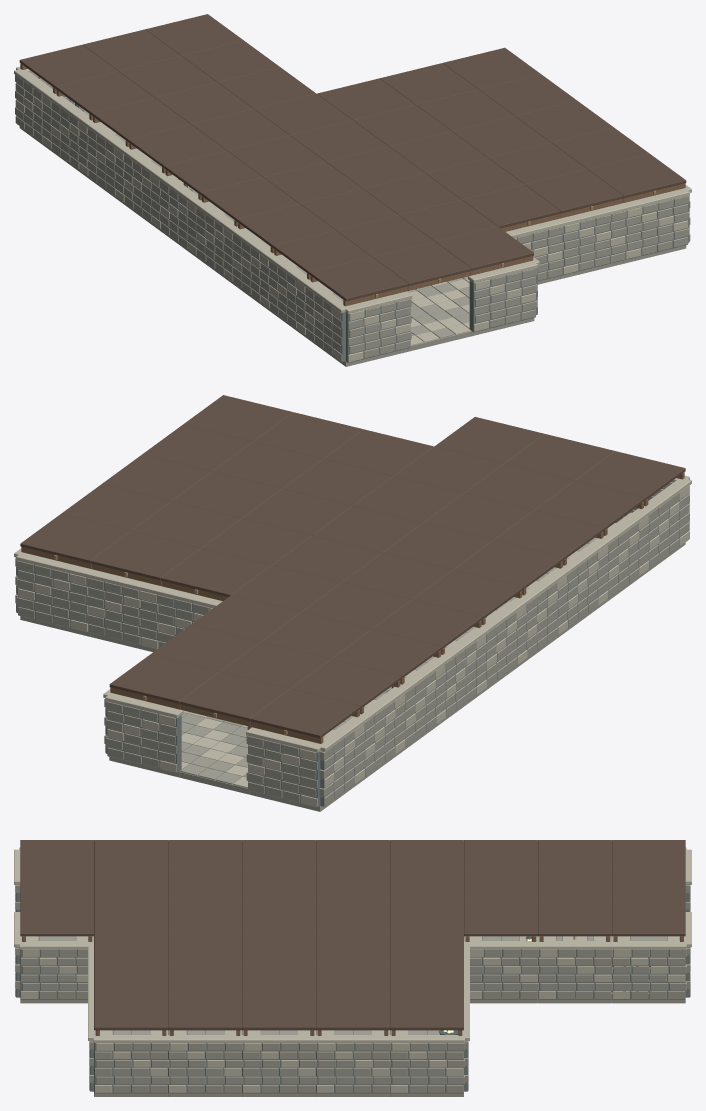
The model's file is tv_07_01_crypt_rooms.glb.
3 renders of one model, top to bottom at view 1: azimuth 30°, elevation 25°; view 2: azimuth 150°, elevation 25°; view 3: azimuth 270°, elevation 25°, orthographic. The views are drawn at different scales.
Visible parts, largest first — view 1: wall_0054, wall_0043, wall_0064, wall_0061, ceiling_0087, ceiling_0096, ceiling_0124, ceiling_0105, ceiling_0119, ceiling_0114, wall_0042, ceiling_0090 (+47 smaller); view 2: wall_0058, wall_0051, wall_0062, wall_0069, ceiling_0095, ceiling_0104, ceiling_0113, ceiling_0123, ceiling_0128, ceiling_0118, wall_0052, ceiling_0091 (+47 smaller); view 3: wall_0063, wall_0065, wall_0068, wall_0056, wall_0066, wall_0067, wall_0057, wall_0055, wall_0053, ceiling_0111, ceiling_0112, ceiling_0124 (+45 smaller).
Boxes of the visible parts, x1,y1,x2,y2 form: wall_0054: [468, 261, 537, 332]; wall_0043: [345, 291, 412, 362]; wall_0064: [622, 189, 689, 259]; wall_0061: [558, 203, 626, 274]; ceiling_0087: [309, 257, 408, 306]; ceiling_0096: [373, 242, 471, 290]; ceiling_0124: [587, 154, 686, 202]; ceiling_0105: [436, 226, 533, 275]; ceiling_0119: [525, 169, 623, 218]; ceiling_0114: [462, 184, 560, 231]; wall_0042: [304, 281, 350, 362]; ceiling_0090: [201, 177, 299, 226]; wall_0058: [105, 694, 183, 772]; wall_0051: [246, 727, 323, 807]; wall_0062: [86, 569, 162, 649]; wall_0069: [16, 552, 92, 632]; ceiling_0095: [250, 689, 360, 743]; ceiling_0104: [180, 672, 289, 726]; ceiling_0113: [109, 654, 219, 709]; ceiling_0123: [90, 531, 200, 586]; ceiling_0128: [20, 514, 130, 568]; ceiling_0118: [161, 548, 271, 601]; wall_0052: [319, 716, 366, 806]; ceiling_0091: [413, 570, 523, 624]; wall_0063: [93, 1035, 169, 1093]; wall_0065: [167, 1035, 243, 1093]; wall_0068: [390, 1035, 464, 1093]; wall_0056: [537, 941, 612, 999]; wall_0066: [242, 1035, 316, 1093]; wall_0067: [315, 1035, 390, 1093]; wall_0057: [611, 941, 686, 999]; wall_0055: [464, 941, 538, 999]; wall_0053: [19, 941, 93, 999]; ceiling_0111: [464, 902, 537, 941]; ceiling_0112: [538, 902, 611, 941]; ceiling_0124: [94, 996, 167, 1035].
Size of the model in its own units: 24.67 by 4.16 by 36.67.
